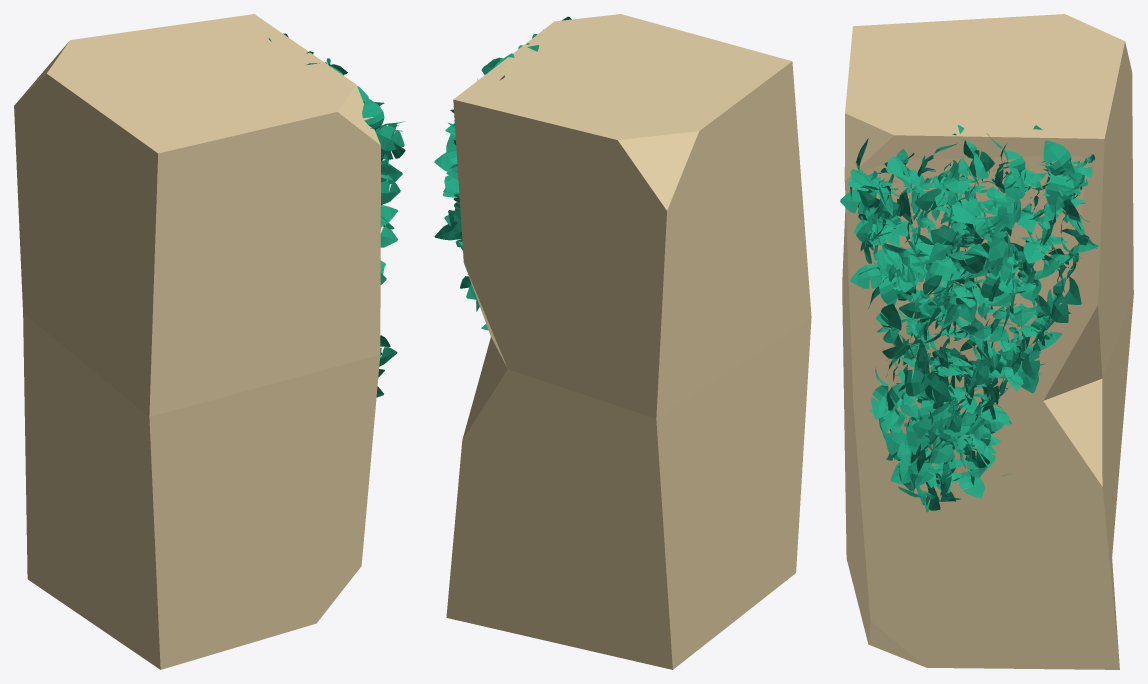
File: pillarLeaf.fbx
3 views of the same model, side by side, from view 1: azimuth 30°, elevation 25°; view 2: azimuth 150°, elevation 25°; view 3: azimuth 270°, elevation 25° (orthographic). The views are drawn at different scales.
Parts seen in each view (by area): view 1: MediumStone, vines|LeafPart|Dupli|130; view 2: MediumStone, vines|LeafPart|Dupli|488; view 3: MediumStone, vines, vines|LeafPart|Dupli|44, vines|LeafPart|Dupli|2, vines|LeafPart|Dupli|74, vines|LeafPart|Dupli|55, vines|LeafPart|Dupli|409, vines|LeafPart|Dupli|97, vines|LeafPart|Dupli|128, vines|LeafPart|Dupli|589, vines|LeafPart|Dupli|377, vines|LeafPart|Dupli|333 (+13 smaller).
Part boxes in pixels (x1,y1,x2,y2): MediumStone: (14,14,380,669); vines|LeafPart|Dupli|130: (362,98,404,150); MediumStone: (446,14,811,669); vines|LeafPart|Dupli|488: (444,134,459,196); MediumStone: (842,14,1133,669); vines: (863,155,1088,473); vines|LeafPart|Dupli|44: (1043,140,1088,212); vines|LeafPart|Dupli|2: (850,264,897,305); vines|LeafPart|Dupli|74: (886,364,930,410); vines|LeafPart|Dupli|55: (981,238,1015,303); vines|LeafPart|Dupli|409: (916,341,951,401); vines|LeafPart|Dupli|97: (1004,149,1041,204); vines|LeafPart|Dupli|128: (1022,331,1062,380); vines|LeafPart|Dupli|589: (934,463,984,498); vines|LeafPart|Dupli|377: (900,256,957,282); vines|LeafPart|Dupli|333: (998,344,1040,393).
Bounding box in the file's own units: 0.9781 × 1.82 × 0.8939.
